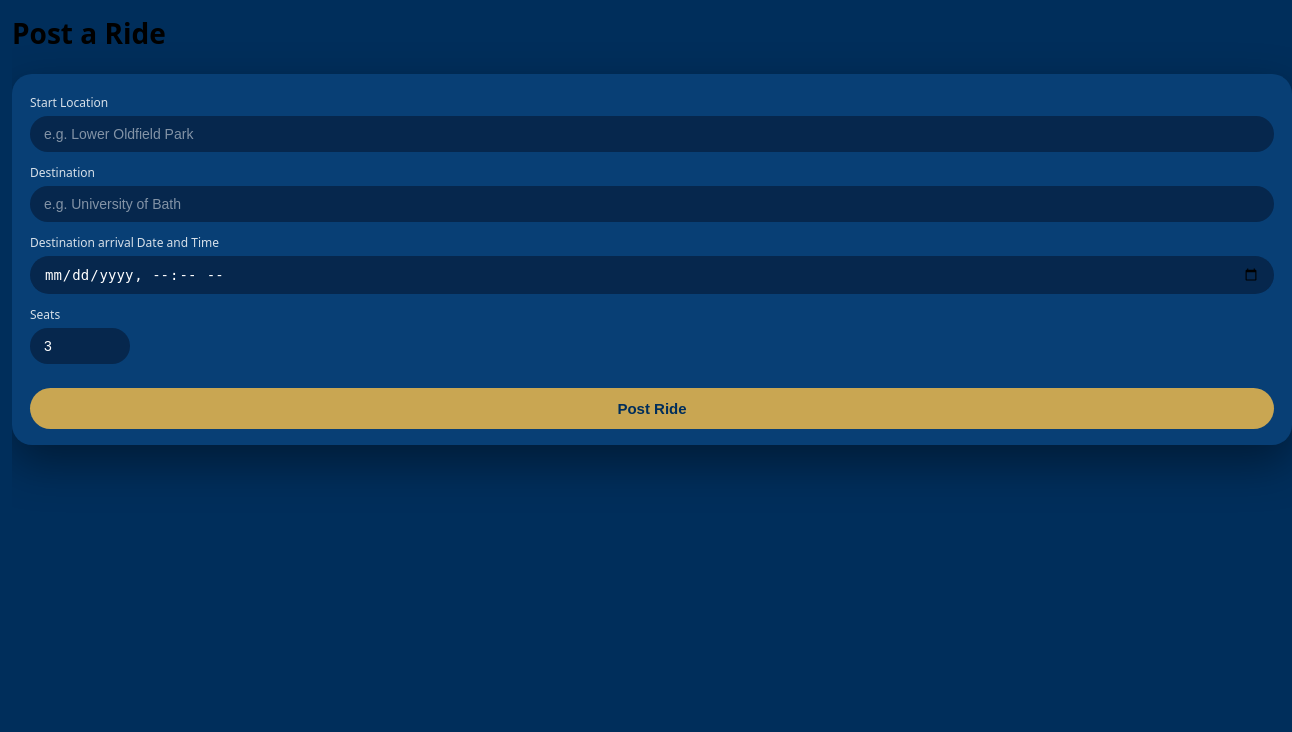
Test: PostRidePage › shows an api error returned during submission
This screenshot has width=1292, height=732.
Type "Oldfield Park" into the field labelled "Start Location" at (652, 134), box [30,116,1274,152]
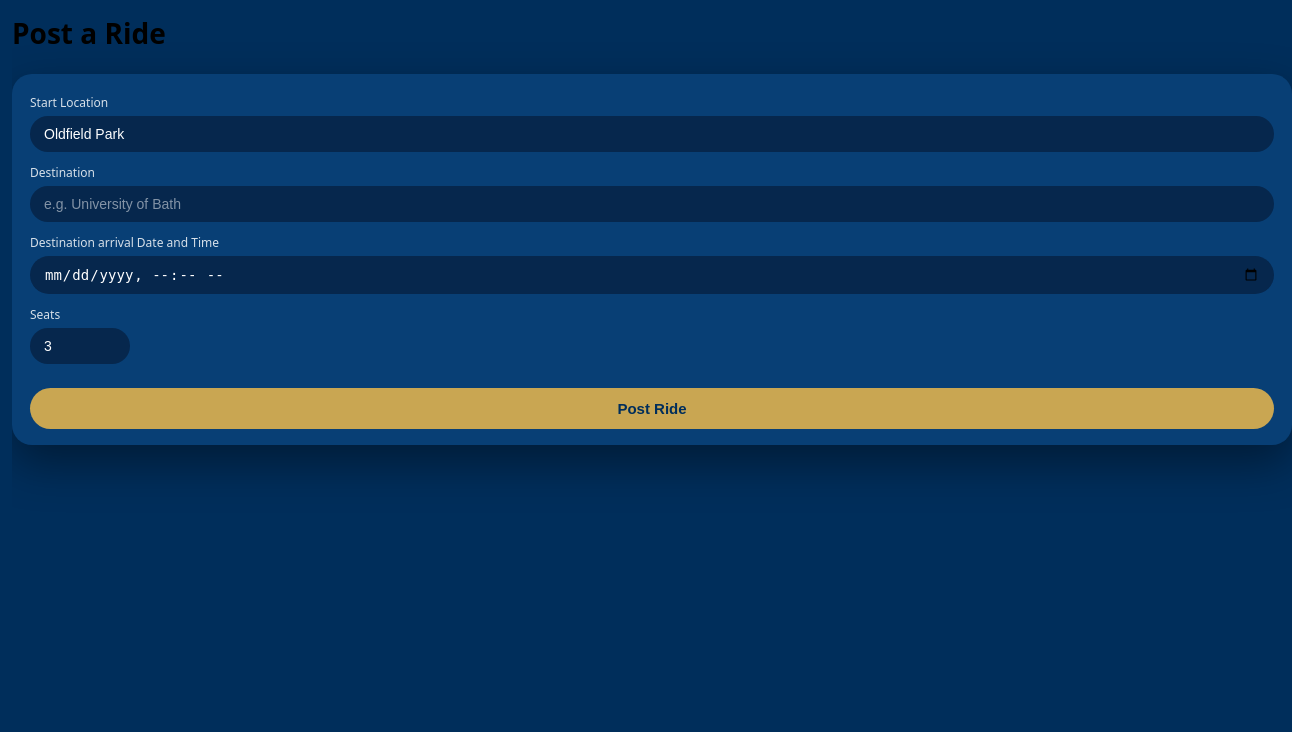
Type "University of Bath" into the field labelled "Destination" at (652, 204), box [30,186,1274,222]
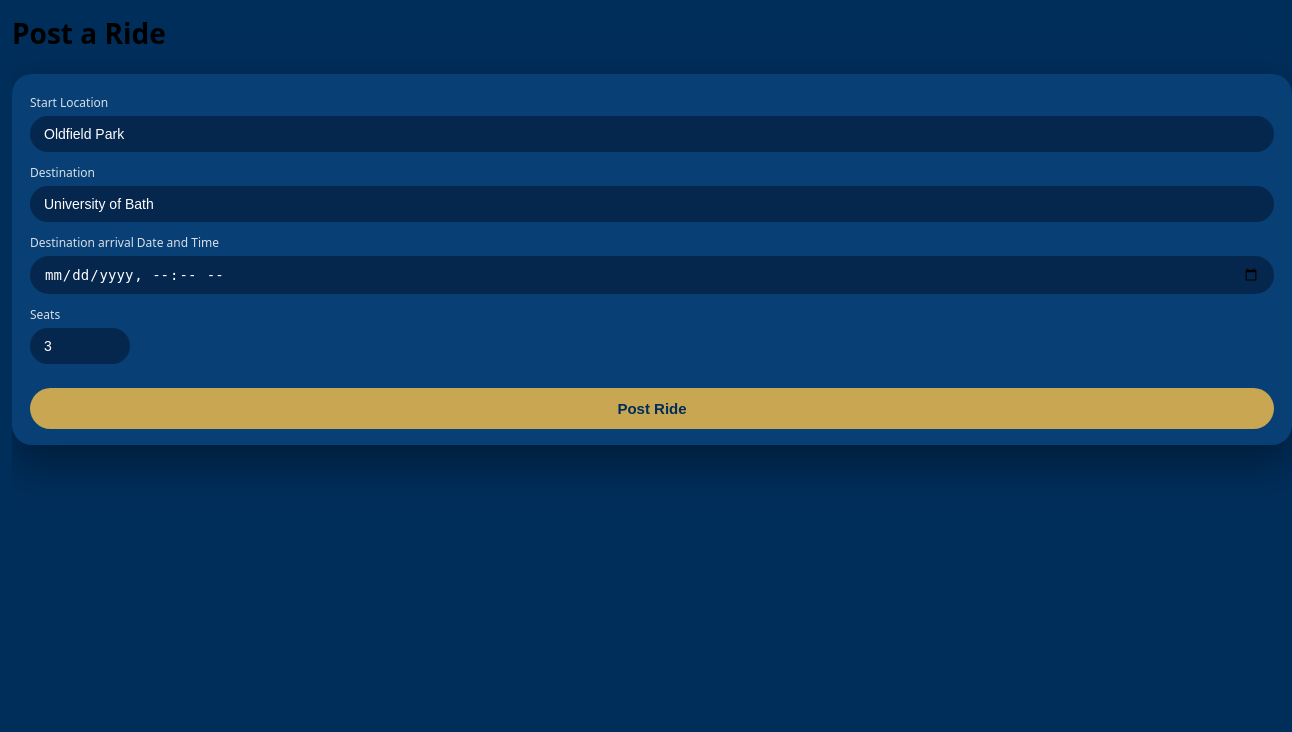
Type "2026-10-10T12:00" into the field labelled "Destination arrival Date and Time" at (652, 275), box [30,256,1274,294]
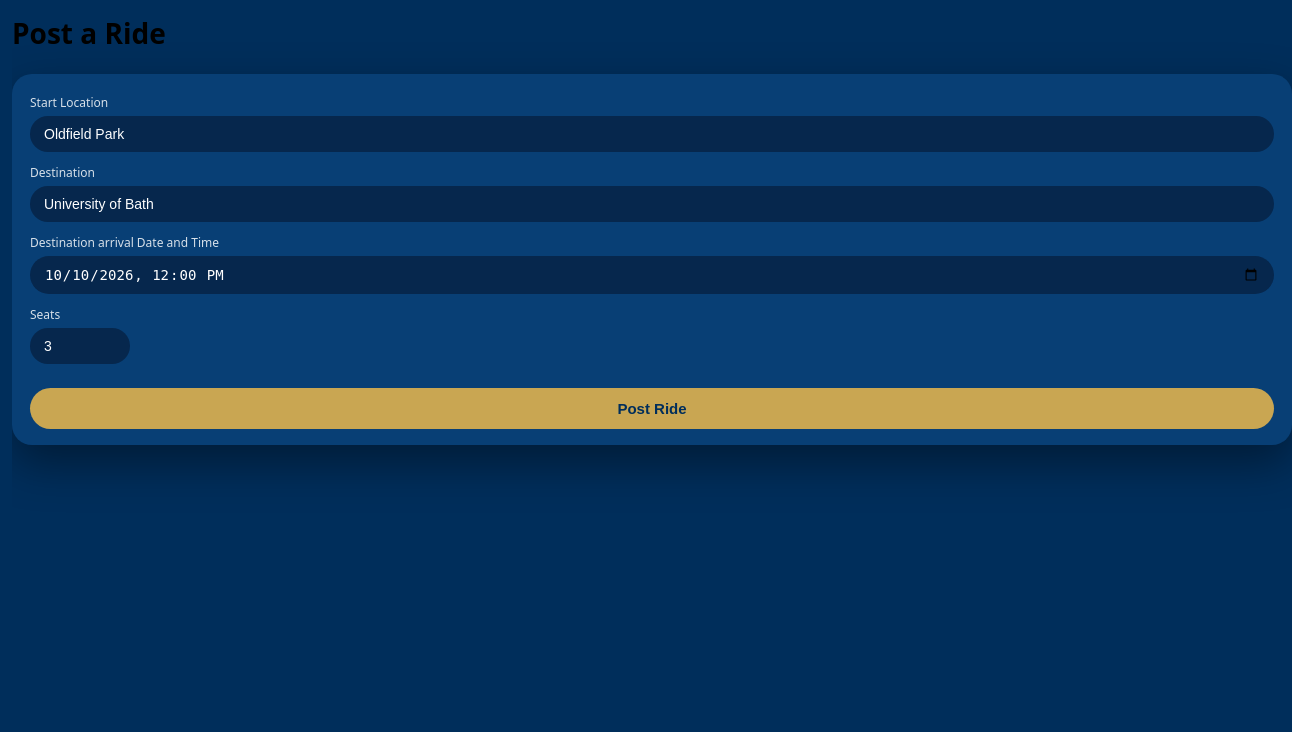
Replace the text in the number field labelled "Seats" with "4" at (80, 346), box [30,328,130,364]
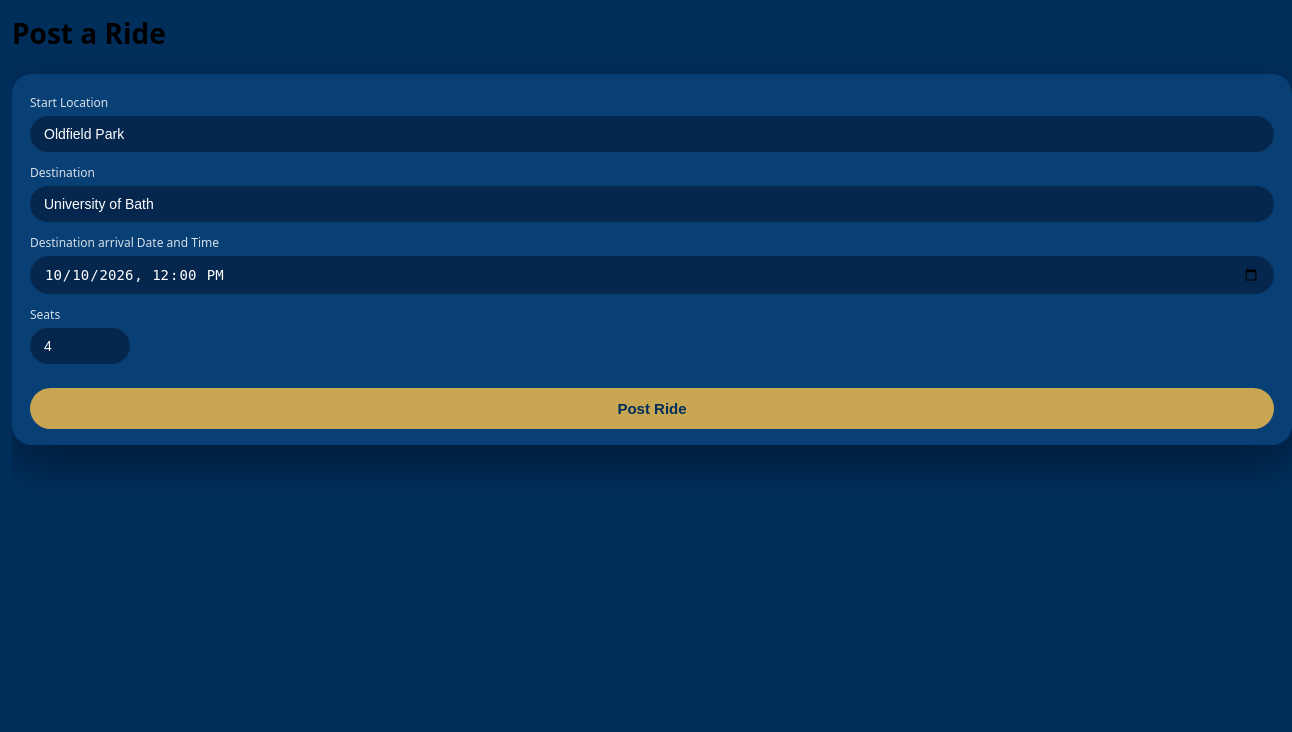
Click the button "Post Ride" at (652, 408), box [30,388,1274,429]
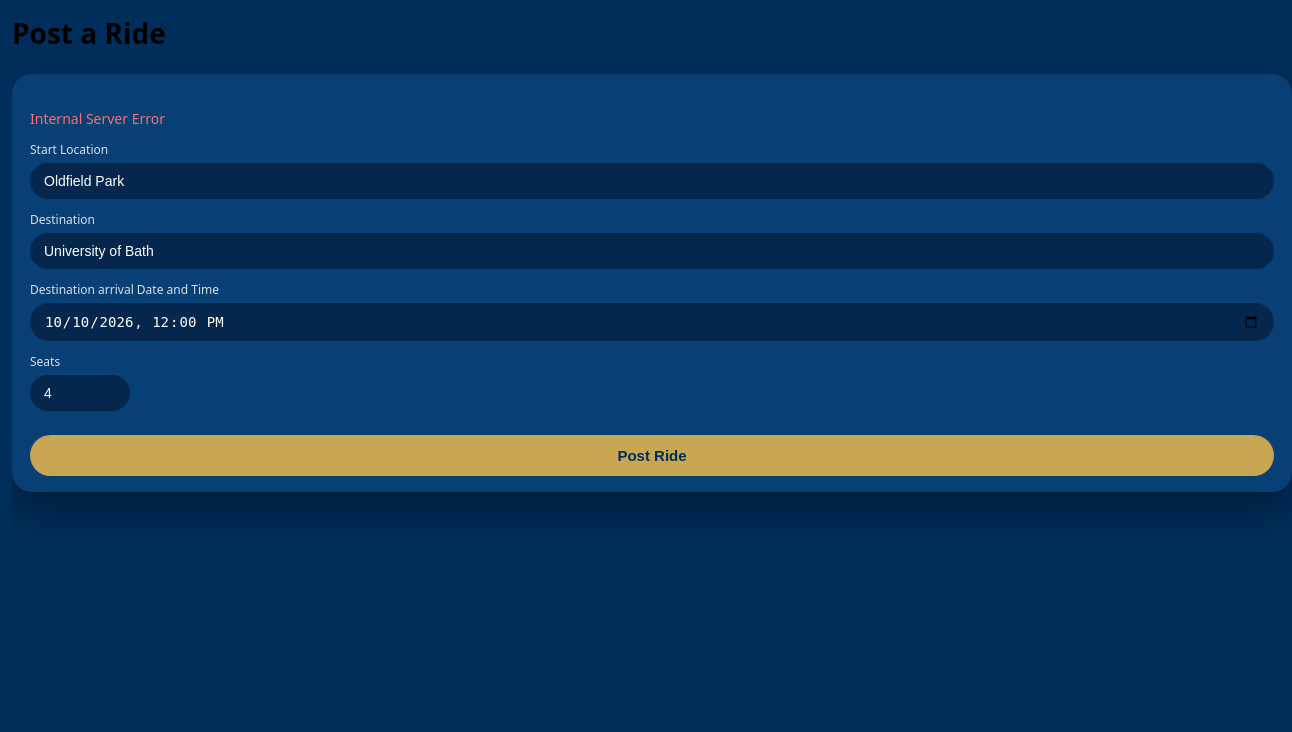
Check: the text "Internal Server Error" is shown, box [30,109,165,128]
